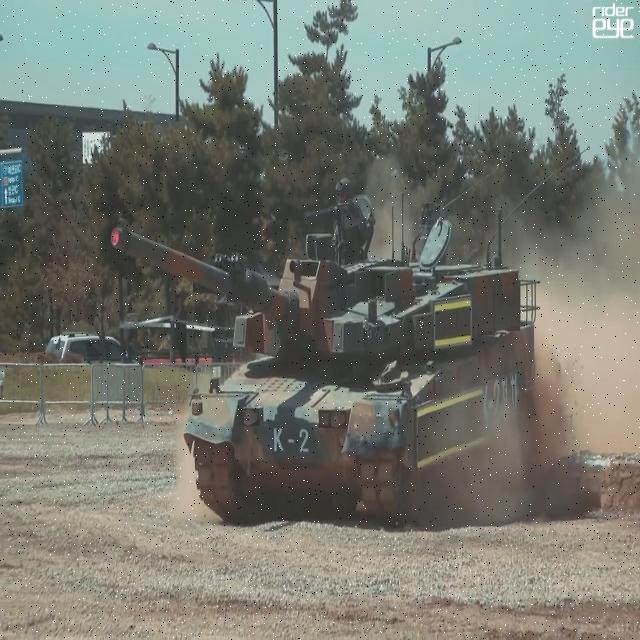korea tank: (108, 174, 542, 526)
